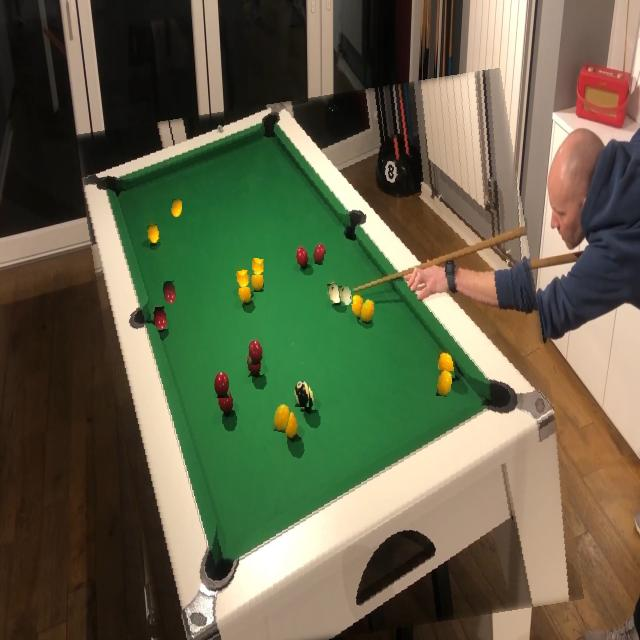Ball: (273, 404, 290, 432), (248, 338, 264, 365), (437, 371, 453, 397), (214, 372, 229, 398), (294, 381, 309, 407), (360, 300, 375, 324), (163, 281, 177, 304), (339, 284, 353, 306), (251, 270, 264, 292), (314, 243, 326, 265), (252, 258, 264, 275), (171, 199, 182, 217)
Billiard table: (93, 82, 564, 640)
